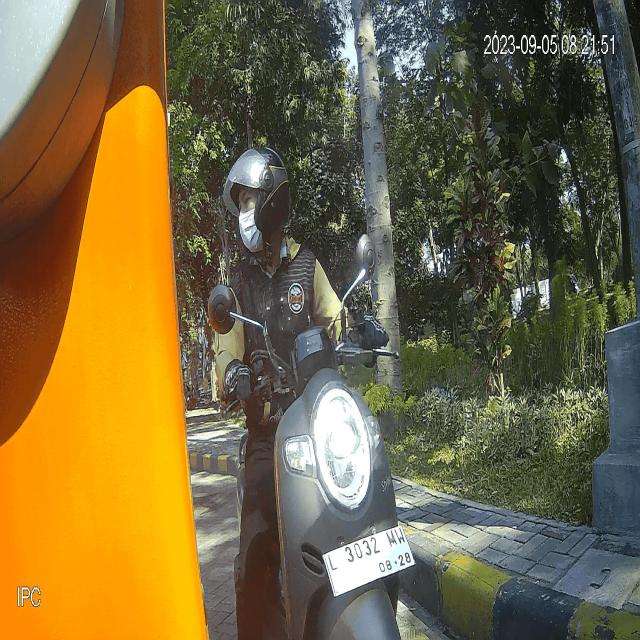license-plate: (321, 522, 418, 598)
